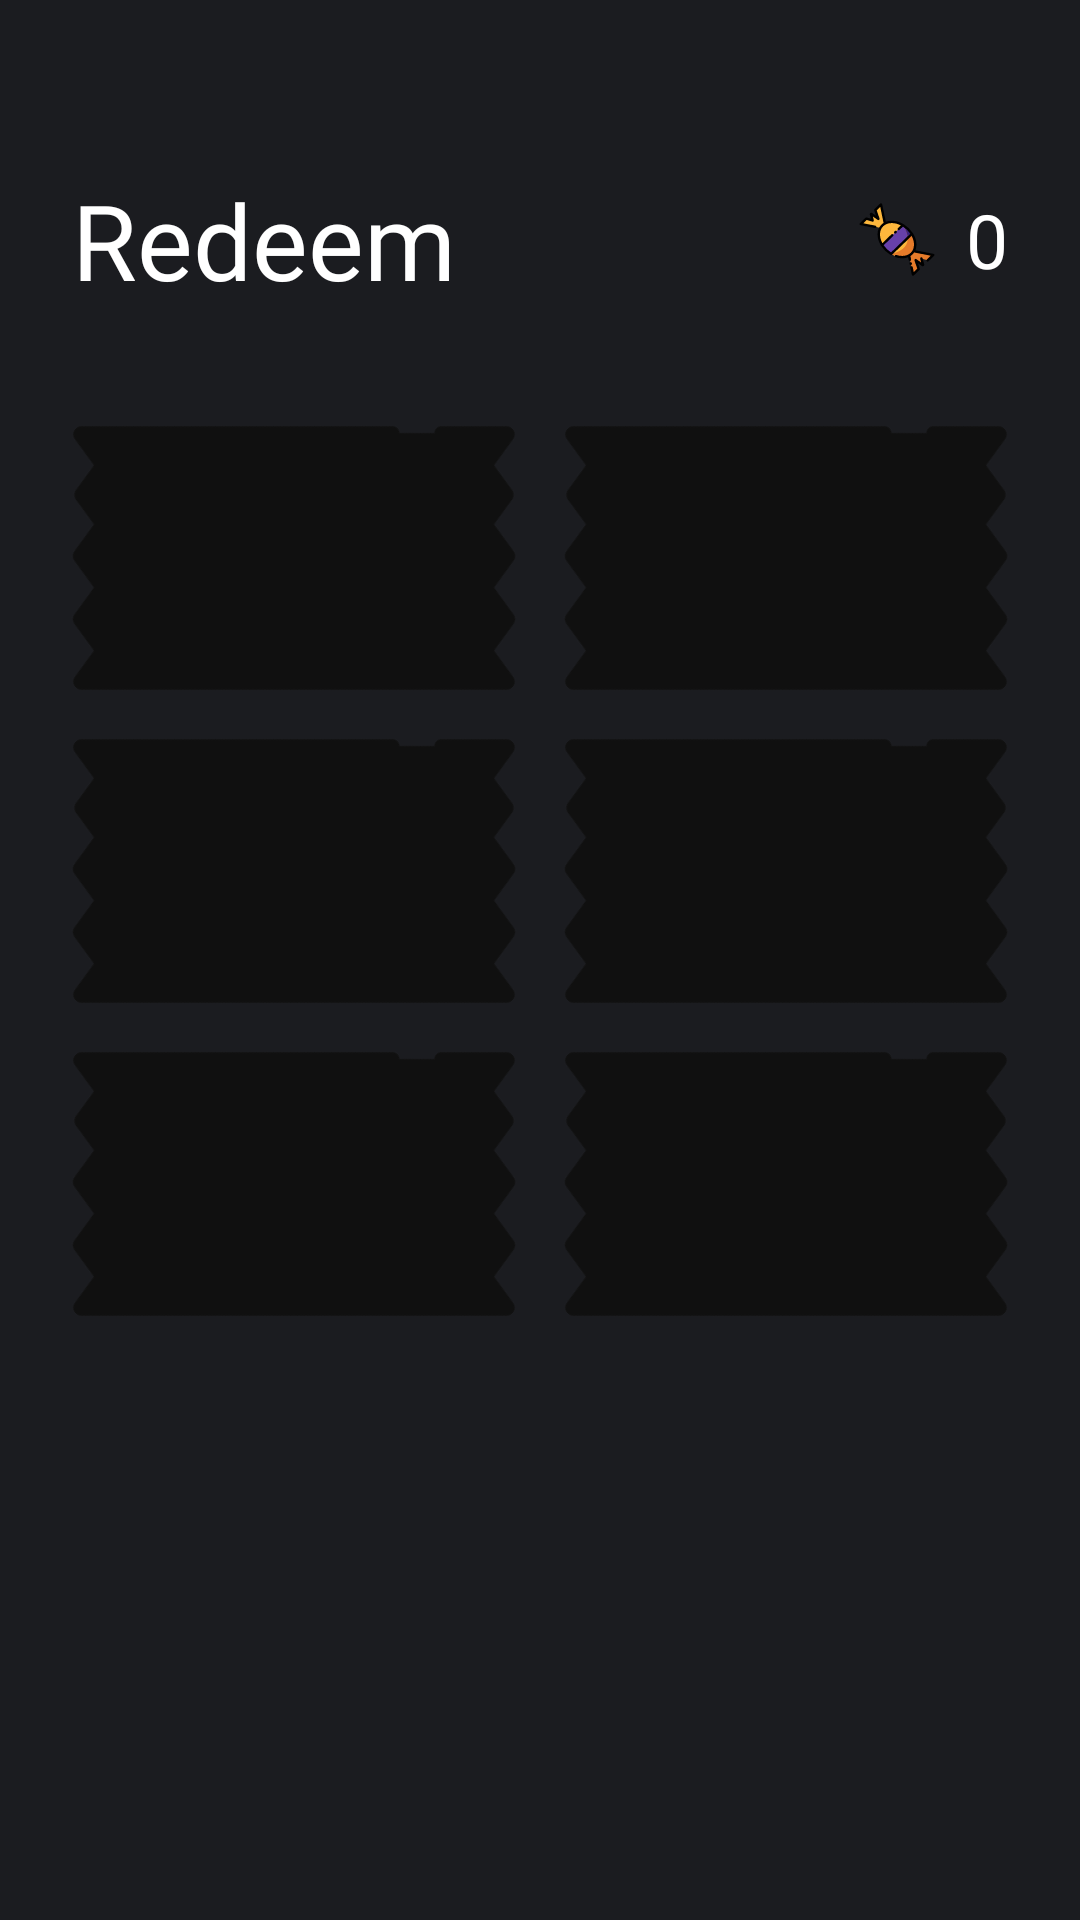

Where icons sit on this 1080x1920 app screen, as bbox(x1, y1, x2, y2):
candies: bbox(860, 204, 934, 275)
